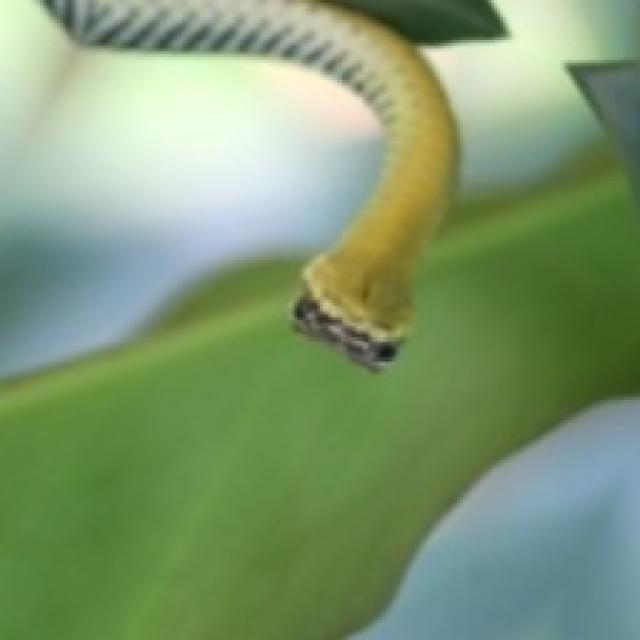paradise tree snake: (54, 3, 454, 360), (0, 3, 366, 374)
